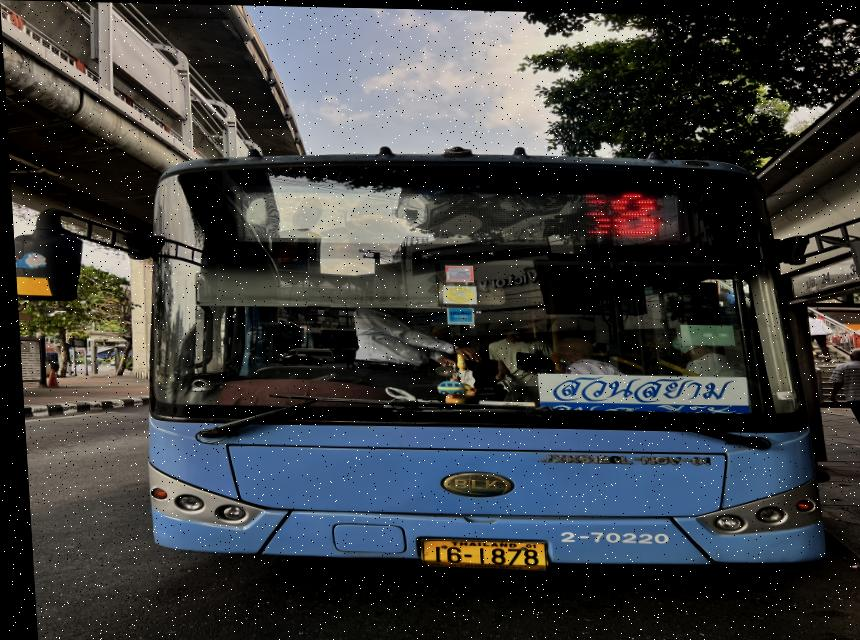BMTA-bus: (129, 150, 825, 572)
Bus Line Number: (554, 185, 685, 241)
Bus Side Number: (547, 526, 669, 547)
Destination Sign: (529, 371, 748, 412)
